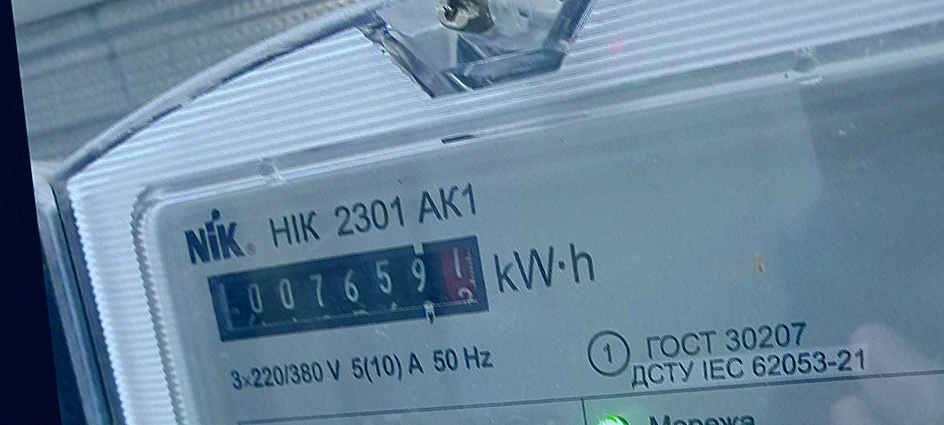0: (274, 272, 299, 315), (244, 278, 268, 318)
1: (445, 243, 468, 282)
5: (371, 256, 398, 298)
6: (338, 264, 365, 307)
7: (305, 269, 332, 310)
9: (407, 254, 433, 296)
screen: (197, 228, 497, 354)
